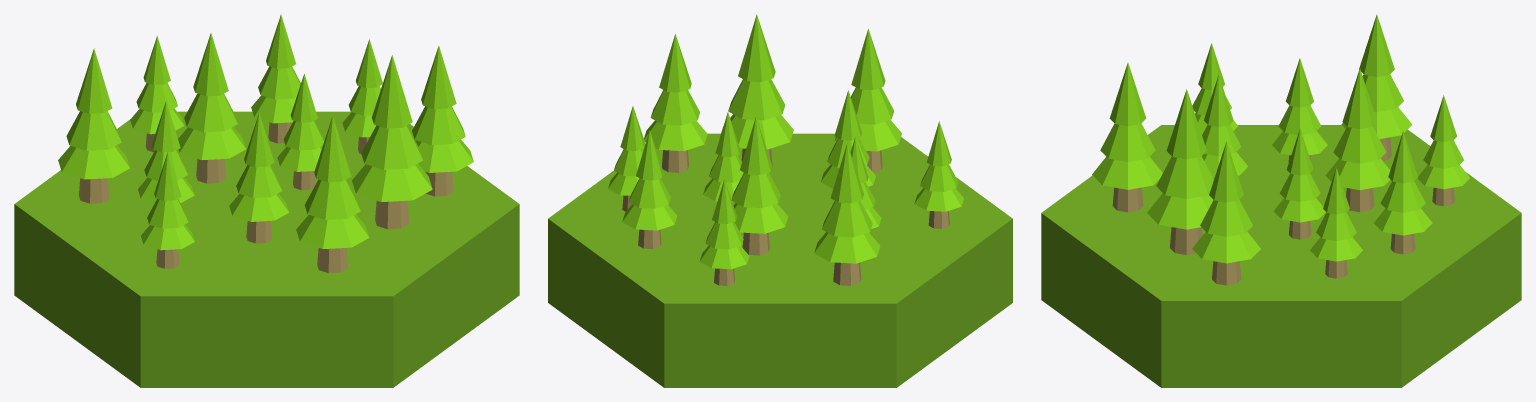
The model's file is Pinos_Chicos_Hex.fbx.
The picture shows the model from 3 angles, left to right: view 1: azimuth 30°, elevation 25°; view 2: azimuth 150°, elevation 25°; view 3: azimuth 270°, elevation 25°; orthographic projection. The views are drawn at different scales.
Parts seen in each view (by area): view 1: Pinos_Bajos; view 2: Pinos_Bajos; view 3: Pinos_Bajos.
Part boxes in pixels (<box>): Pinos_Bajos: <box>14,14,519,387</box>; Pinos_Bajos: <box>548,14,1012,387</box>; Pinos_Bajos: <box>1041,14,1521,387</box>.
Size of the model in its own units: 86.6 by 56.59 by 100.
1 material, 1 textured.
